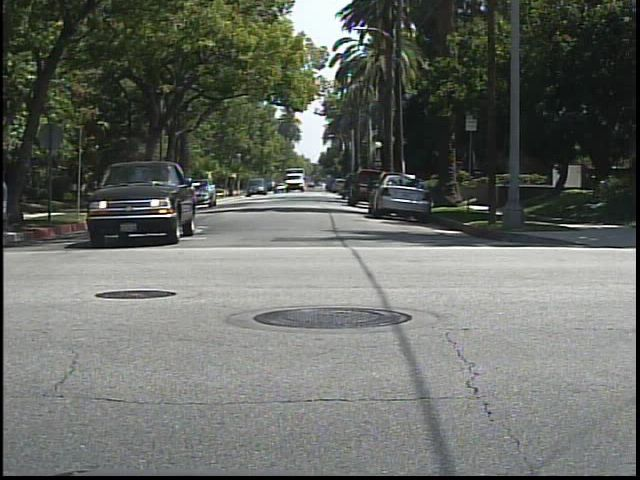car: (72, 156, 196, 246), (372, 164, 441, 220), (283, 168, 309, 193)
